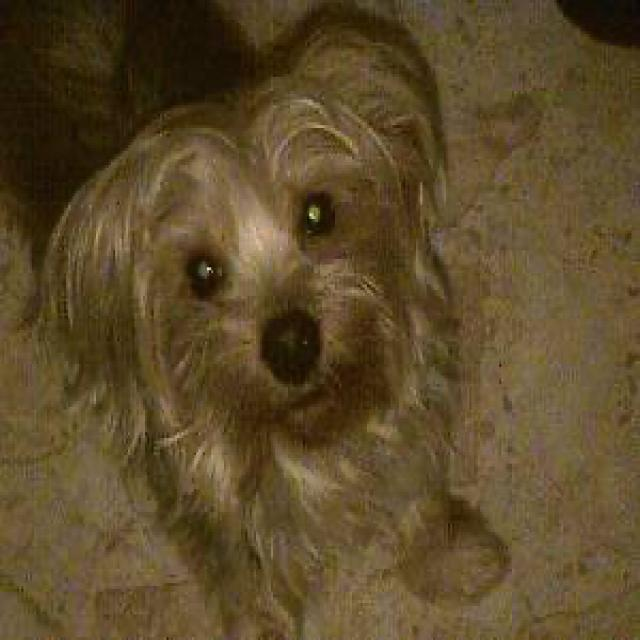dog: (45, 20, 437, 449)
